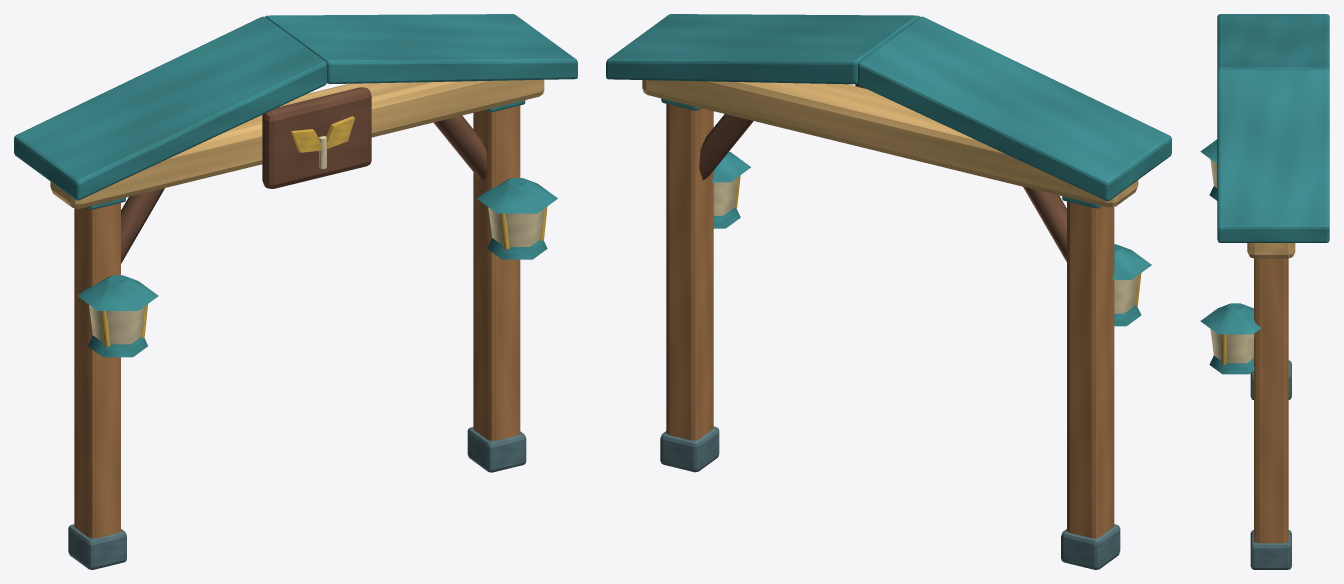
The model's file is camp-gate.glb.
The picture shows the model from 3 angles, left to right: view 1: azimuth 30°, elevation 25°; view 2: azimuth 150°, elevation 25°; view 3: azimuth 270°, elevation 25°; orthographic projection. The views are drawn at different scales.
Visible parts, largest first — view 1: camp-gate-mesh; view 2: camp-gate-mesh; view 3: camp-gate-mesh.
Boxes of the visible parts, x1,y1,x2,y2 form: camp-gate-mesh: (14, 14, 577, 569); camp-gate-mesh: (606, 14, 1171, 569); camp-gate-mesh: (1200, 14, 1329, 569).
Size of the model in its own units: 4.4 by 3.94 by 1.13.
Materials: 1 (1 with a texture image).
